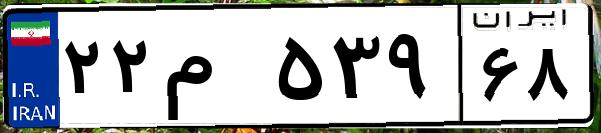2: (57, 26, 110, 100), (110, 28, 158, 98)
3: (330, 28, 385, 110)
5: (270, 28, 330, 110)
6: (475, 38, 525, 113)
8: (525, 38, 570, 115)
9: (385, 28, 445, 110)
م: (158, 20, 270, 120)
